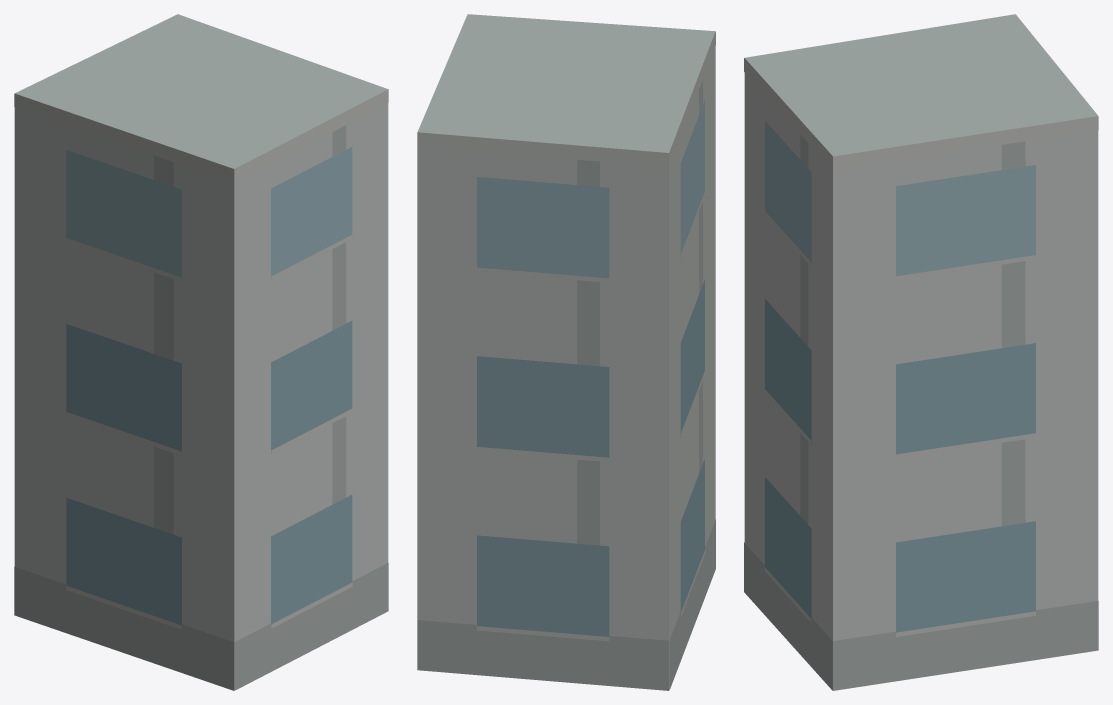
The model's file is survey-upis-32541760.glb.
The picture shows the model from 3 angles, left to right: view 1: azimuth 30°, elevation 25°; view 2: azimuth 150°, elevation 25°; view 3: azimuth 270°, elevation 25°; orthographic projection. The views are drawn at different scales.
Parts seen in each view (by area): view 1: survey-upis-32541760.tmp; view 2: survey-upis-32541760.tmp; view 3: survey-upis-32541760.tmp.
Part boxes in pixels (bbox=[...]): survey-upis-32541760.tmp: bbox=[14, 14, 388, 690]; survey-upis-32541760.tmp: bbox=[417, 14, 715, 690]; survey-upis-32541760.tmp: bbox=[744, 14, 1098, 690].
Size of the model in its own units: 5.24 by 9.15 by 5.5.
